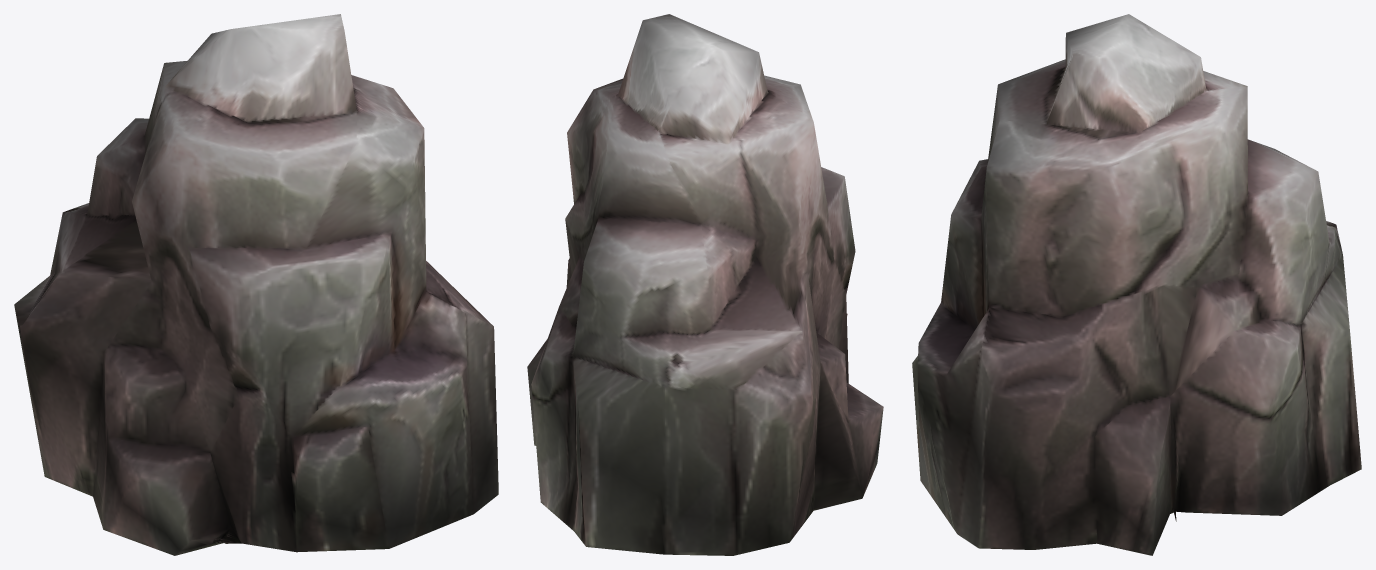
File: Big 3.fbx
The picture shows the model from 3 angles, left to right: view 1: azimuth 30°, elevation 25°; view 2: azimuth 150°, elevation 25°; view 3: azimuth 270°, elevation 25°; orthographic projection. The views are drawn at different scales.
Parts seen in each view (by area): view 1: Big_3; view 2: Big_3; view 3: Big_3.
Boxes of the visible parts, box(x1,y1,x2,y2) form: Big_3: box(14, 14, 498, 555); Big_3: box(527, 14, 883, 555); Big_3: box(912, 14, 1361, 555).
Bounding box in the file's own units: 424 × 526 × 474.
